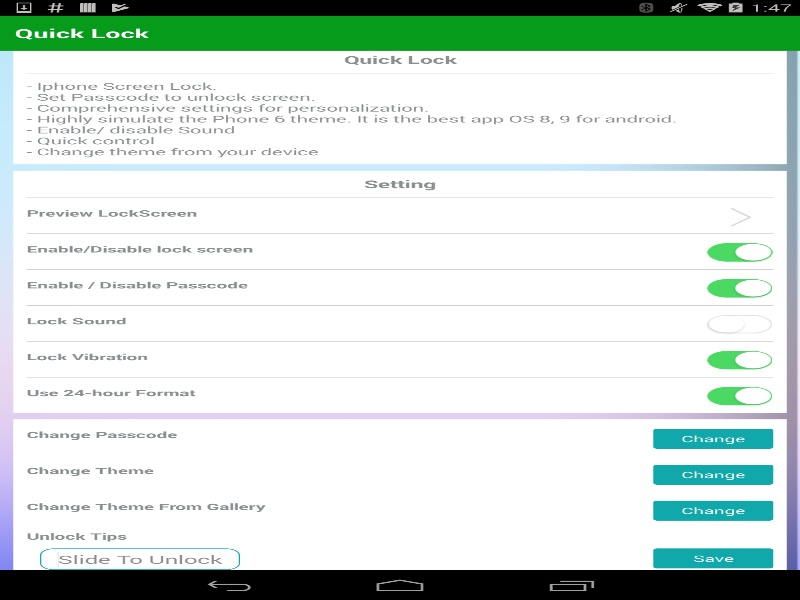Button: (653, 428, 773, 448), (653, 464, 773, 484), (653, 500, 773, 520), (653, 548, 773, 568)
Input: (40, 548, 240, 570)
